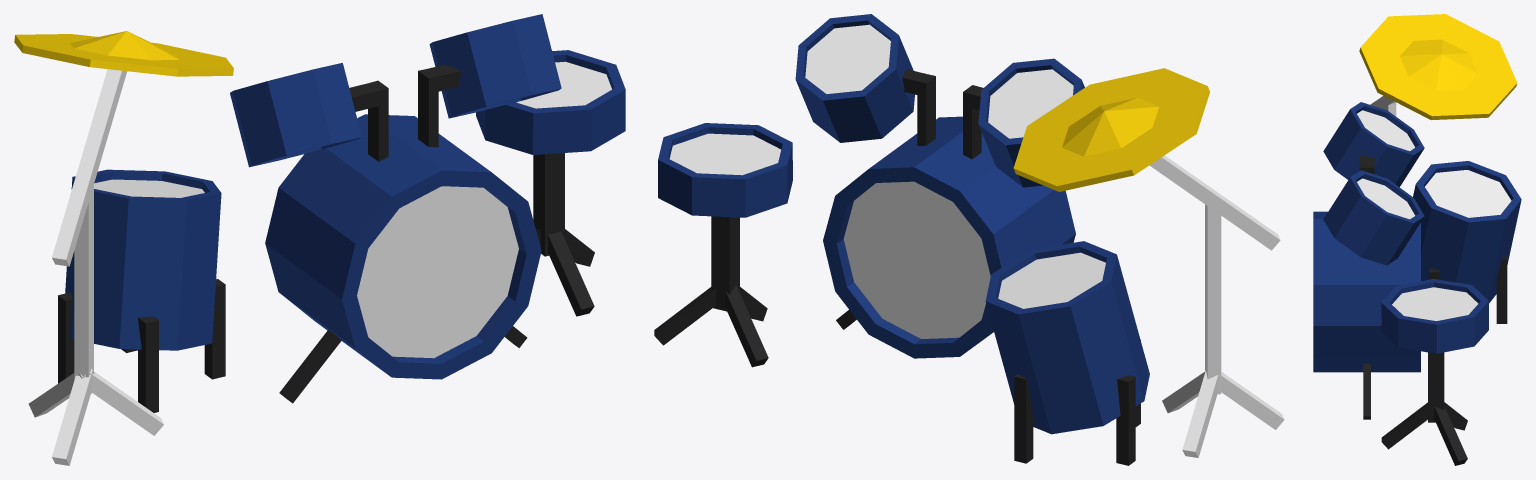
File: Drums.fbx
3 views of the same model, side by side, from view 1: azimuth 30°, elevation 25°; view 2: azimuth 150°, elevation 25°; view 3: azimuth 270°, elevation 25° (orthographic). The views are drawn at different scales.
Visible parts, largest first — view 1: Cylinder_2, Cylinder_6, Cylinder_8, Cylinder_5, Cylinder_4, Cylinder_9, Cube_11, Cube_10, Cube_6, Cube_5, Cube_14, Cube_7 (+4 smaller); view 2: Cylinder_2, Cylinder_6, Cylinder_9, Cylinder_4, Cylinder_8, Cylinder_5, Cube_10, Cube_11, Cube_6, Cube, Cube_2, Cube_9 (+4 smaller); view 3: Cylinder_9, Cylinder_2, Cylinder_6, Cylinder_8, Cylinder_4, Cylinder_5, Cube_6, Cube_8, Cube_7, Cube_2, Cube_9.
Boxes of the visible parts, <box> form: Cylinder_2: <box>265,64,541,403</box>; Cylinder_6: <box>65,169,221,350</box>; Cylinder_8: <box>476,50,625,154</box>; Cylinder_5: <box>230,63,361,167</box>; Cylinder_4: <box>429,14,561,118</box>; Cylinder_9: <box>14,31,233,76</box>; Cube_11: <box>52,69,127,266</box>; Cube_10: <box>74,182,93,393</box>; Cube_6: <box>533,153,564,256</box>; Cube_5: <box>138,316,158,412</box>; Cube_14: <box>52,369,94,465</box>; Cube_7: <box>548,231,594,316</box>; Cylinder_2: <box>823,69,1075,358</box>; Cylinder_6: <box>985,241,1149,434</box>; Cylinder_9: <box>1013,68,1209,191</box>; Cylinder_4: <box>795,14,914,142</box>; Cylinder_8: <box>658,123,792,217</box>; Cylinder_5: <box>978,58,1084,187</box>; Cube_10: <box>1205,203,1221,394</box>; Cube_11: <box>1149,155,1280,250</box>; Cube_6: <box>711,216,739,311</box>; Cube: <box>1116,375,1135,465</box>; Cube_2: <box>1014,374,1033,463</box>; Cube_9: <box>725,285,768,367</box>; Cylinder_9: <box>1359,14,1517,119</box>; Cylinder_2: <box>1313,155,1420,419</box>; Cylinder_6: <box>1413,161,1521,303</box>; Cylinder_8: <box>1381,279,1488,353</box>; Cylinder_4: <box>1323,170,1424,265</box>; Cylinder_5: <box>1323,102,1424,187</box>; Cube_6: <box>1428,352,1444,422</box>; Cube_8: <box>1434,406,1467,465</box>; Cube_7: <box>1381,402,1427,449</box>; Cube_2: <box>1496,255,1507,323</box>; Cube_9: <box>1444,402,1467,430</box>.
Size of the model in its own units: 467 by 271 by 194.
